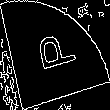P_W: (30, 31, 80, 79)
